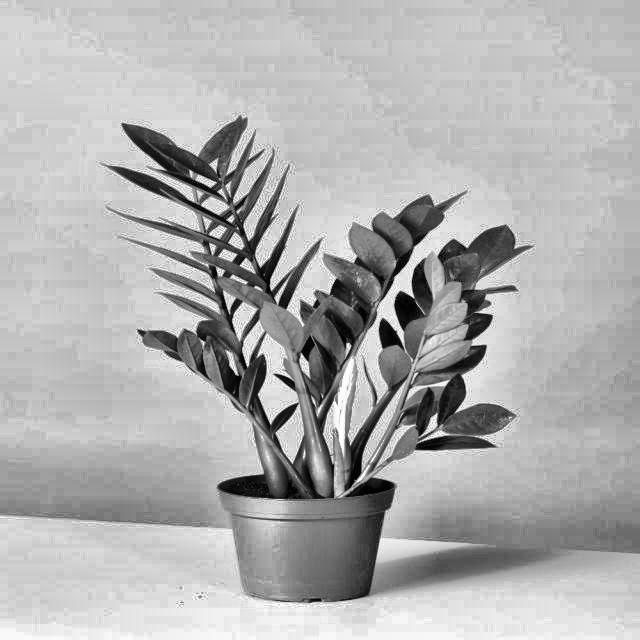plants: (121, 129, 492, 478)
